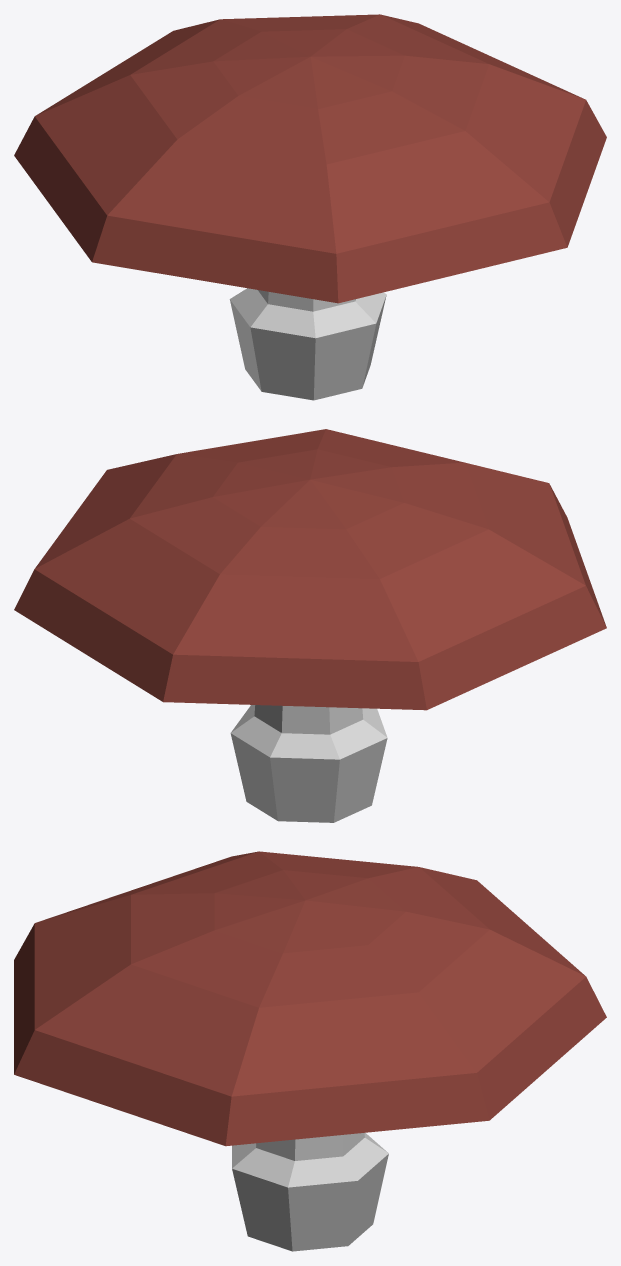
Rendered from plant_mushroom_giant_3.glb.
3 renders of one model, top to bottom at view 1: azimuth 30°, elevation 25°; view 2: azimuth 150°, elevation 25°; view 3: azimuth 270°, elevation 25°, orthographic. The views are drawn at different scales.
Parts seen in each view (by area): view 1: plant_mushroom_giant_3; view 2: plant_mushroom_giant_3; view 3: plant_mushroom_giant_3.
Boxes of the visible parts, left/top/right/bottom form: plant_mushroom_giant_3: left=14, top=14, right=606, bottom=400; plant_mushroom_giant_3: left=14, top=429, right=606, bottom=822; plant_mushroom_giant_3: left=14, top=851, right=606, bottom=1251.
Size of the model in its own units: 8.5 by 5 by 8.28.
